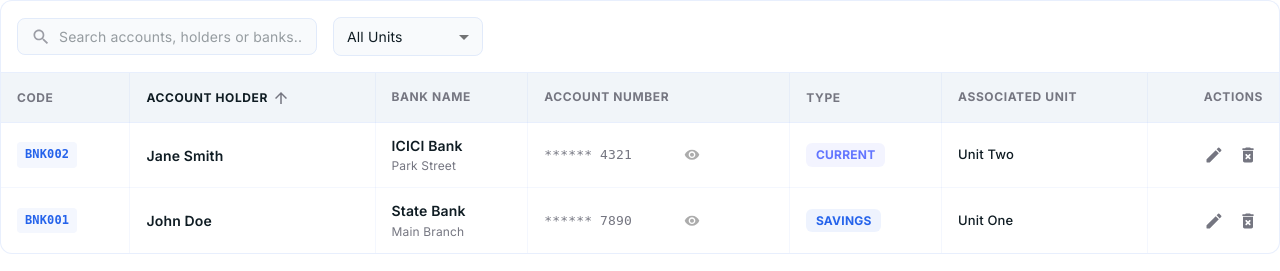
Test case: BanksTable › toggles account visibility when eye icon is clicked
Click the button without text next to "****** 7890" at [692, 221], box [680,209,704,233]
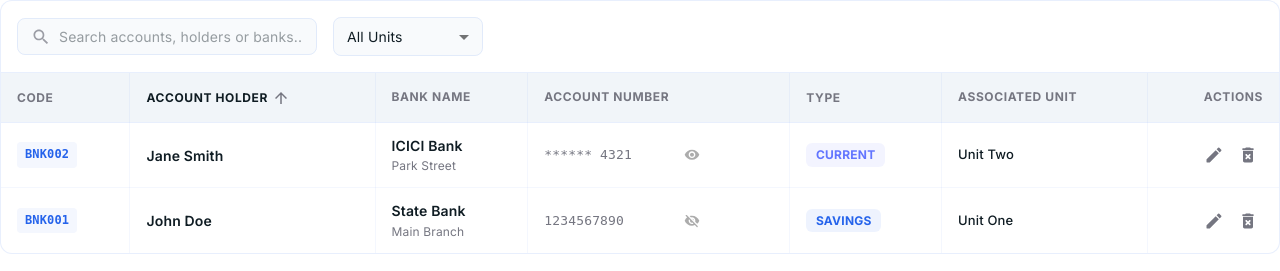
Expected: the text "1234567890" is shown, [544,211,624,230]
Click the button without text next to "1234567890" at [692, 221], box [680,209,704,233]
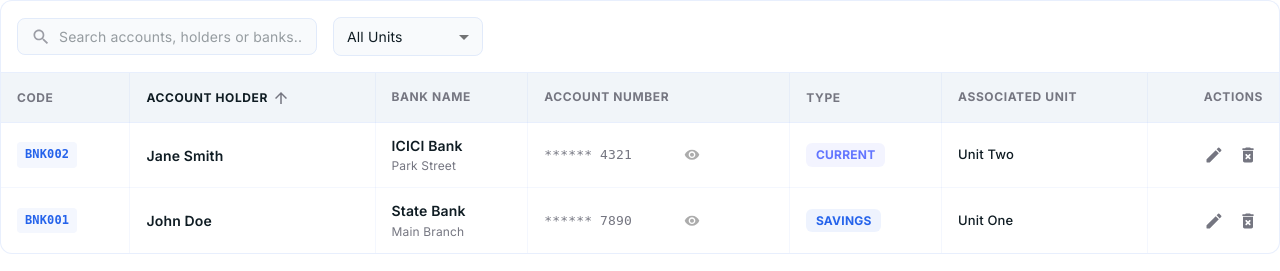
Expected: the text "1234567890" is gone
